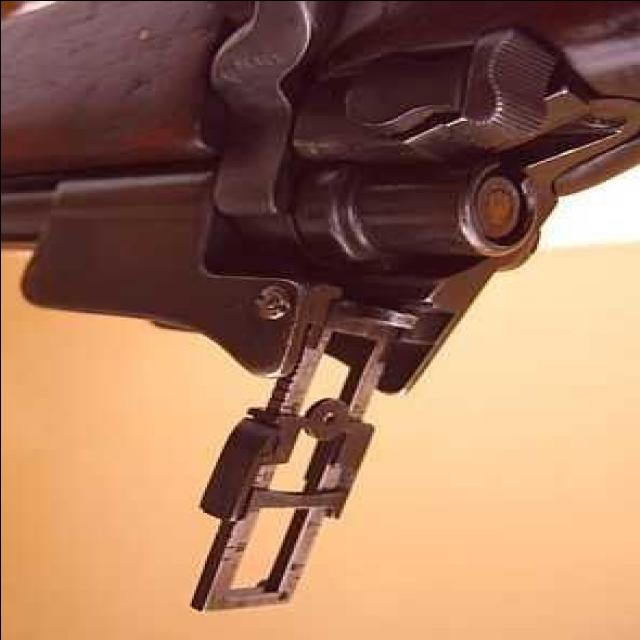heavyweapon: (1, 1, 640, 630)
